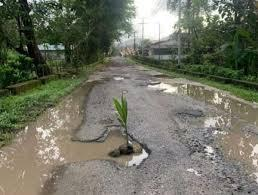Pothole: (0, 73, 152, 195), (142, 71, 257, 193)
